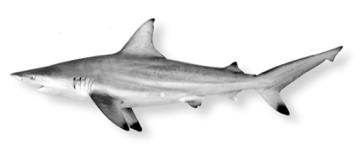Shark -Selachimorpha-: (4, 14, 342, 135)
